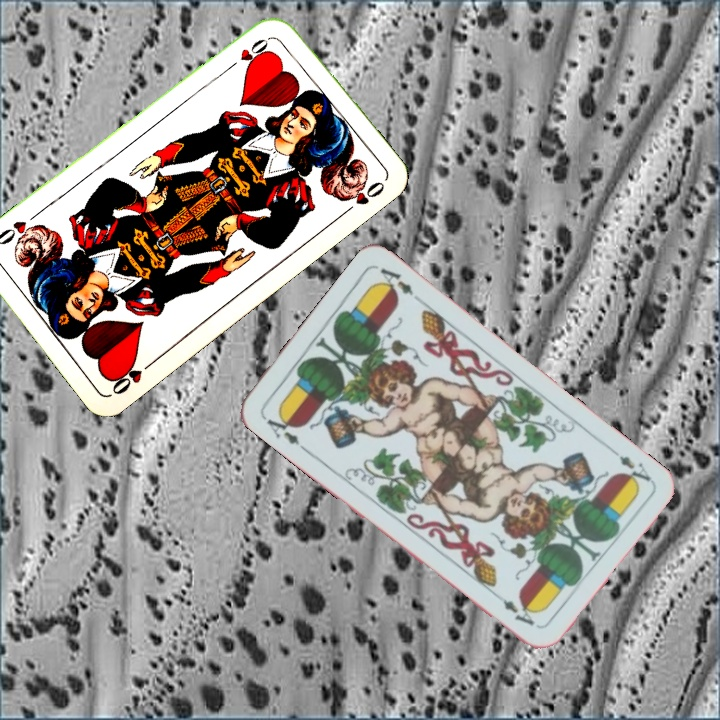EA: (604, 443, 654, 489), (262, 407, 303, 448)
HO: (105, 356, 158, 397), (223, 32, 273, 73)
